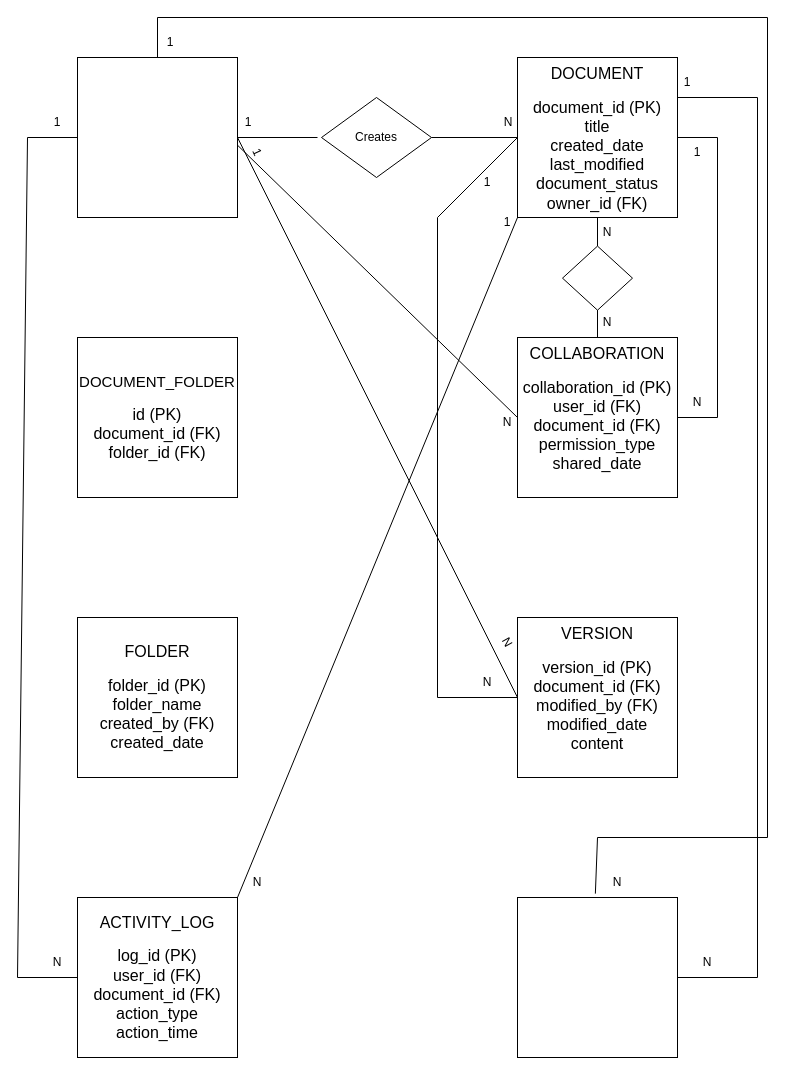
Image size: 786x1075. Some labels were removed from this diagram. Here are the shapes that lost their labels. From the top down, the box of each, then its label:
(76, 56, 238, 218): USER user_id (PK) name email password role created_at
(562, 245, 632, 310): Collaborates
(516, 896, 678, 1058): COMMENT comment_id (PK) user_id (FK) document_id (FK) comment_text timestamp
